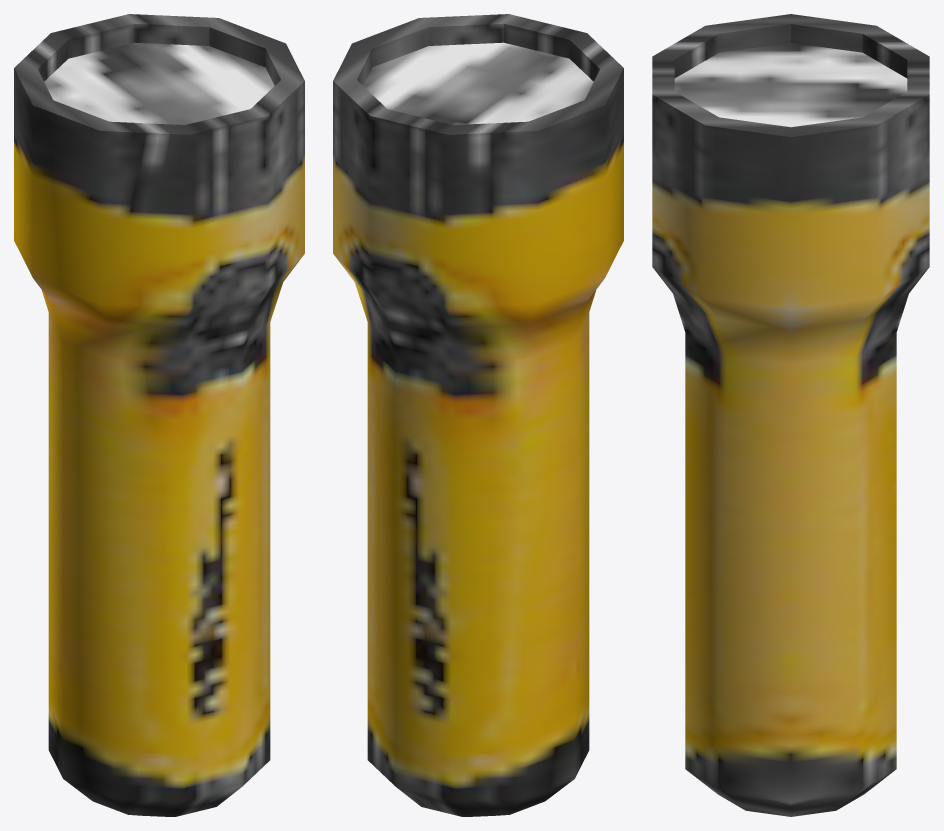
The model's file is flashlight.fbx.
The picture shows the model from 3 angles, left to right: view 1: azimuth 30°, elevation 25°; view 2: azimuth 150°, elevation 25°; view 3: azimuth 270°, elevation 25°; orthographic projection.
Parts seen in each view (by area): view 1: flashlight; view 2: flashlight; view 3: flashlight.
Part boxes in pixels (x1=…): flashlight: x1=14, y1=14, x2=304, y2=816; flashlight: x1=333, y1=14, x2=623, y2=816; flashlight: x1=652, y1=14, x2=929, y2=816.
Bounding box in the file's own units: 21.63 × 59.16 × 20.57.
Materials: 1 (1 with a texture image).
